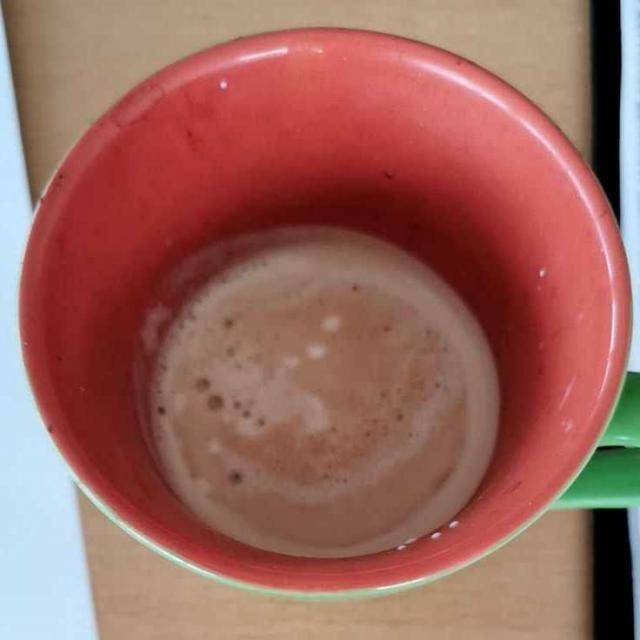espresso: (141, 222, 494, 548)
